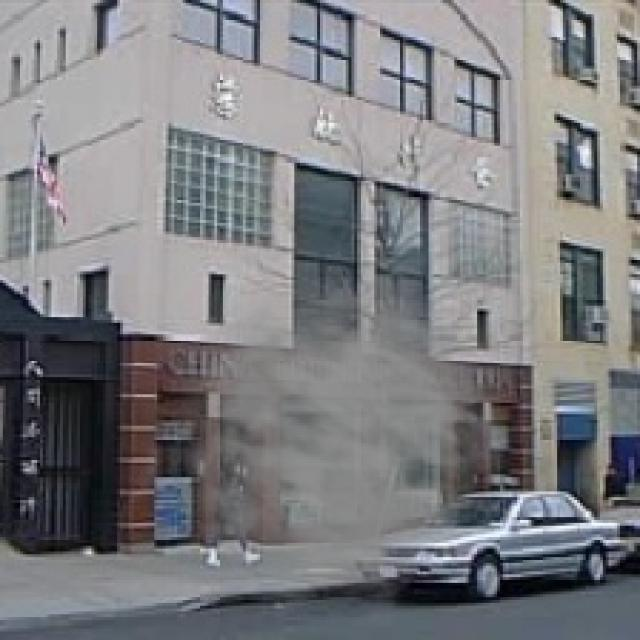smoke: (140, 268, 509, 626)
